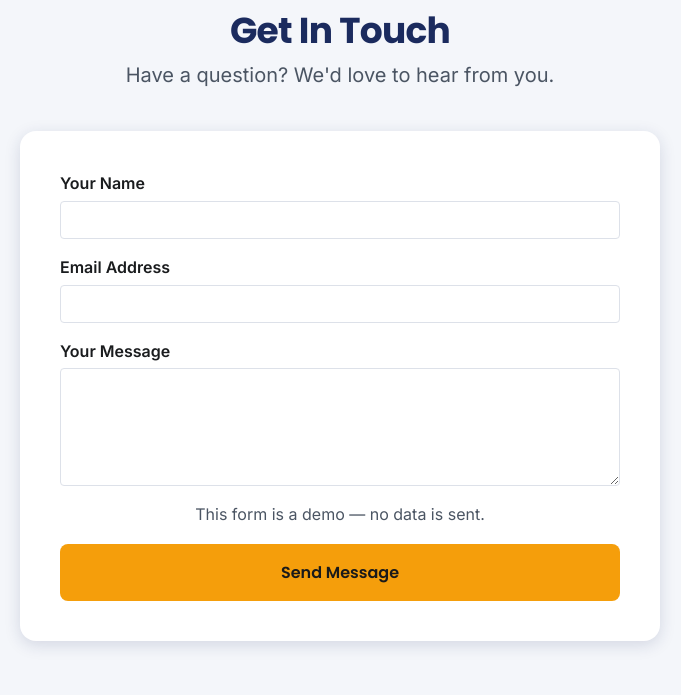
Test: ContactSection › shows error when email does not contain @
Type "Alice Smith" into the field labelled "Your Name".
click(340, 220); type("Alice Smith")  # box top-left (60, 201), bottom-right (620, 239)
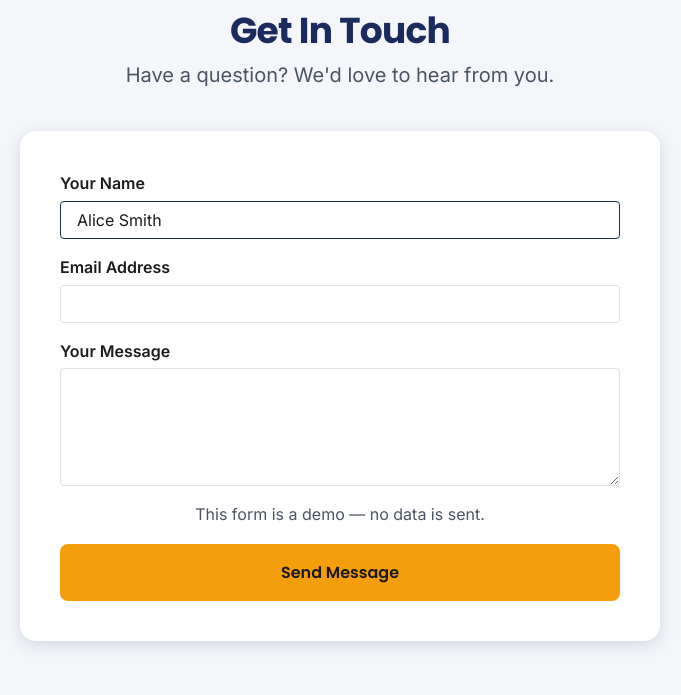
Type "notanemail" into the field labelled "Email Address".
click(340, 304); type("notanemail")  # box top-left (60, 285), bottom-right (620, 323)
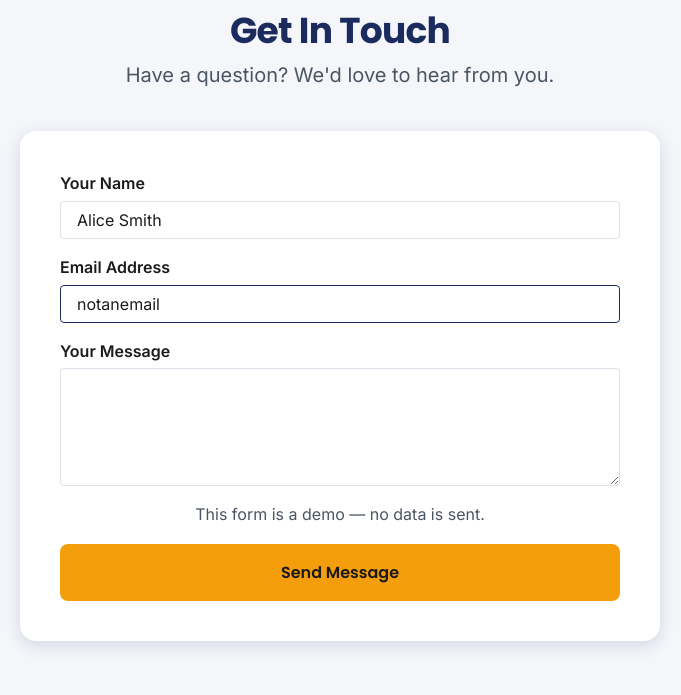
Type "Hello, I have a question." into the text box labelled "Your Message".
click(340, 427); type("Hello, I have a question.")  # box top-left (60, 368), bottom-right (620, 486)
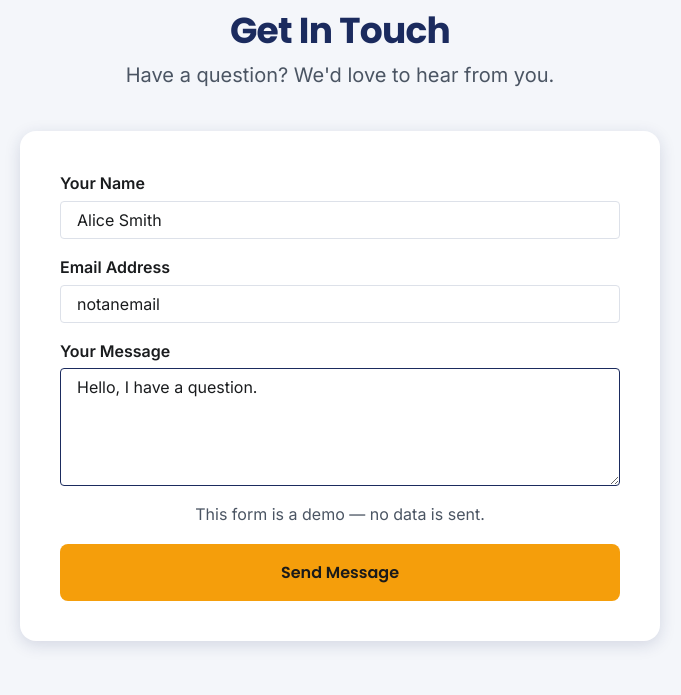
Click the button "Send Message".
click(340, 572)  # box top-left (60, 544), bottom-right (620, 601)
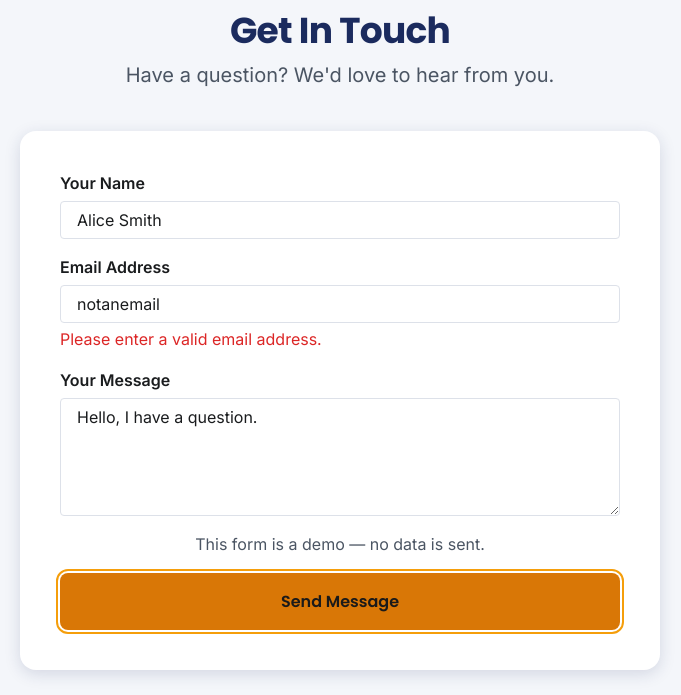
Expected: the text "Please enter a valid email address." is shown, top-left (60, 329), bottom-right (322, 349)
